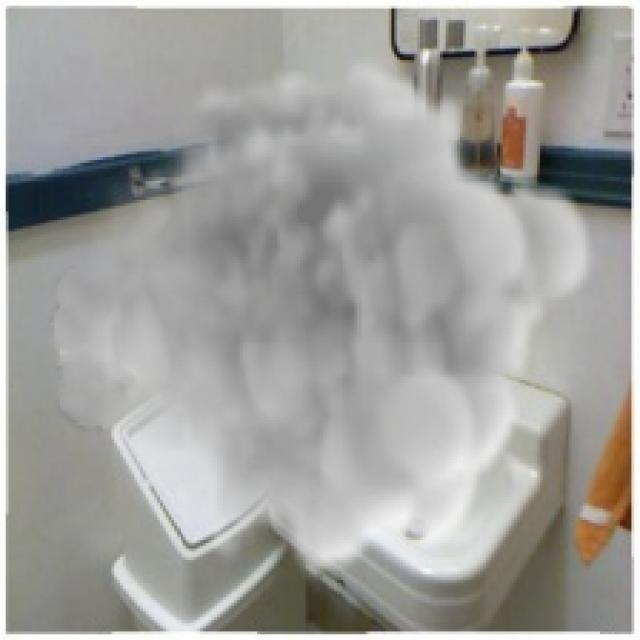Smoke: (45, 57, 600, 580)
